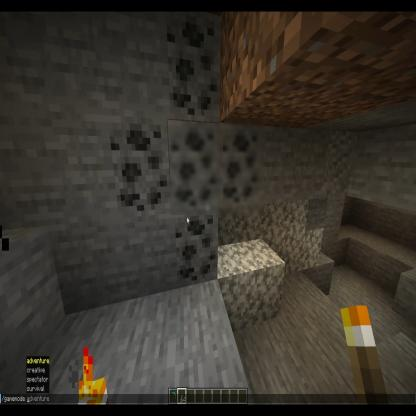coal ore: (165, 11, 224, 124), (104, 118, 170, 218), (166, 114, 223, 215), (216, 118, 264, 216), (171, 208, 219, 290)
